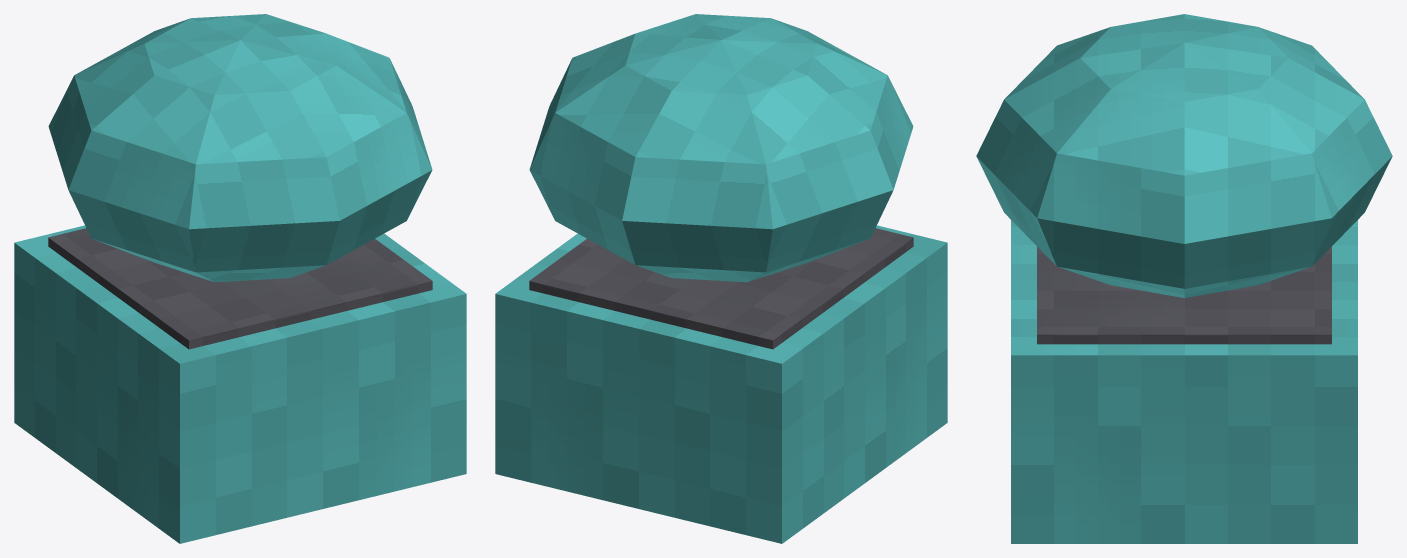
File: three-d-retro-arcade-and-mall-1989-retro-arcade-and-mall-1989-square-planter-c1067bc8.glb
3 views of the same model, side by side, from view 1: azimuth 30°, elevation 25°; view 2: azimuth 150°, elevation 25°; view 3: azimuth 270°, elevation 25° (orthographic). The views are drawn at different scales.
Visible parts, largest first — view 1: square-planter; view 2: square-planter; view 3: square-planter.
Part boxes in pixels (x1,y1,x2,y2): square-planter: (14,14,466,543); square-planter: (495,14,947,543); square-planter: (976,14,1392,543).
Size of the model in its own units: 1.2 by 1.36 by 1.2.
Materials: 2 (2 with a texture image).
